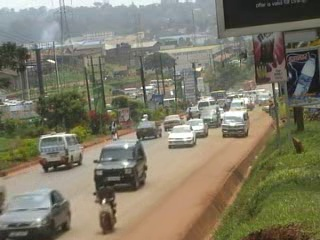Car: (0, 187, 72, 239), (91, 136, 148, 195), (165, 122, 198, 150), (134, 119, 163, 141), (197, 105, 222, 129), (186, 116, 209, 138), (162, 112, 185, 133), (185, 104, 200, 120), (212, 99, 229, 112), (242, 95, 252, 111)
Motorcycle: (92, 178, 119, 235)
